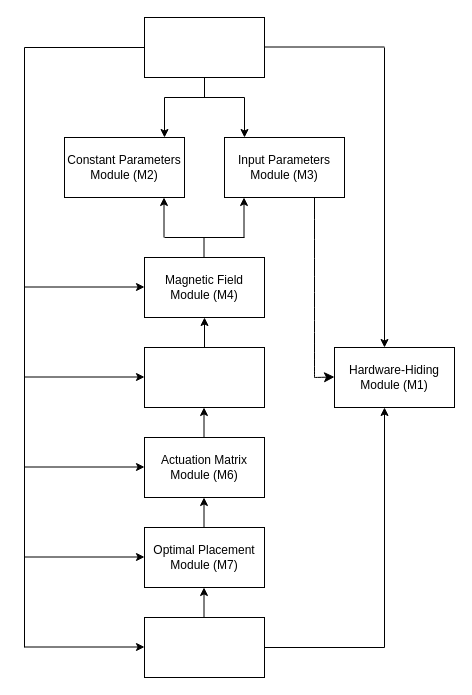
The diagram is 472 pixels wide and 695 high, and some of its shapes have lost their labels. The shapes that lost their labels are listed below. From the top down, each one's centre as x and y in pixels, then its label:
At [204,47]: "Main Module (M9)".
At [204,377]: "Magnetic Force Module (M5)".
At [204,647]: "Output Results Module (M8)".
